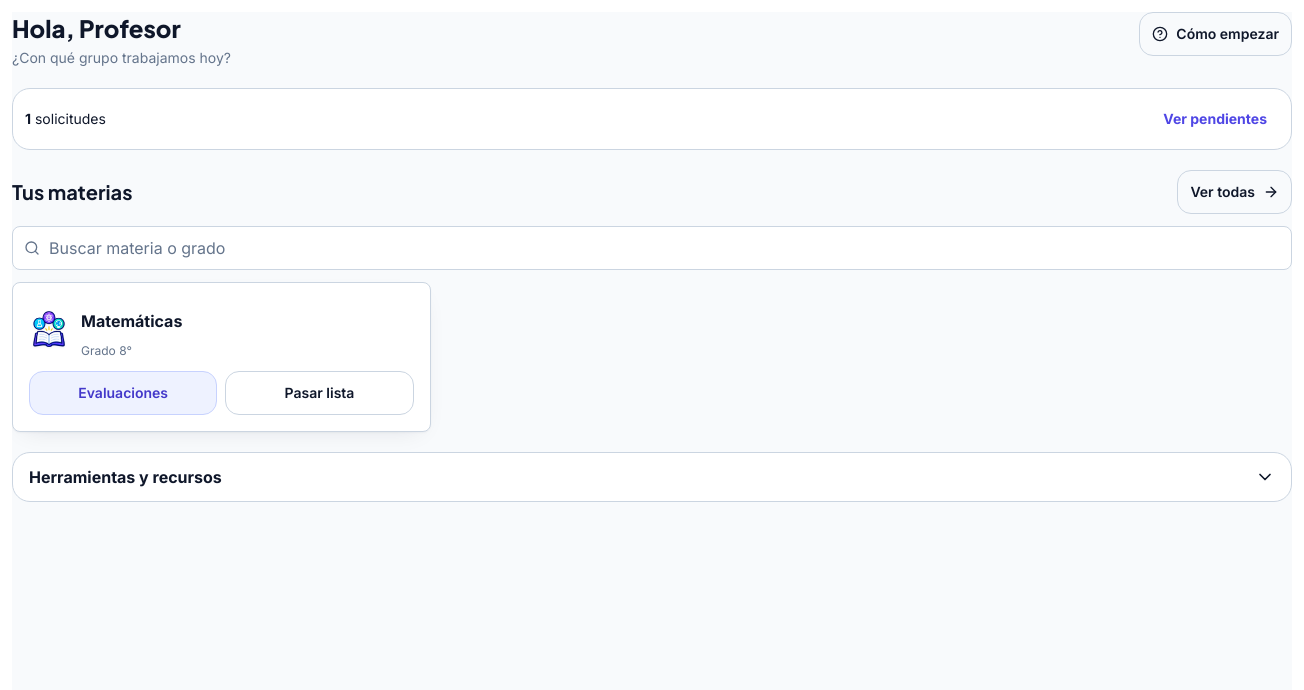
Scenario: DashboardPage docente › does not hide claim details when its counter incorrectly says zero
Click the button "Ver pendientes": (1215, 119) [1151,97,1279,141]
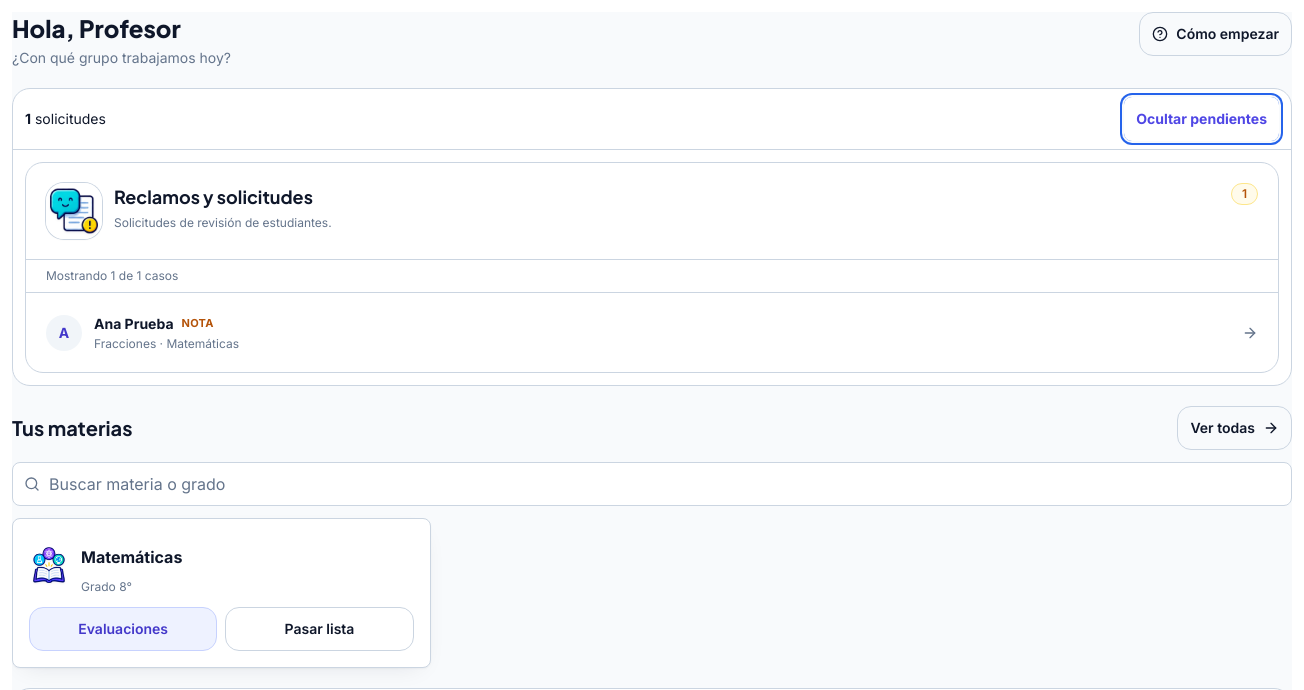
expect the link with aria-label "Revisar Ana Prueba en Fracciones" is shown: met, box [26,292,1278,372]
